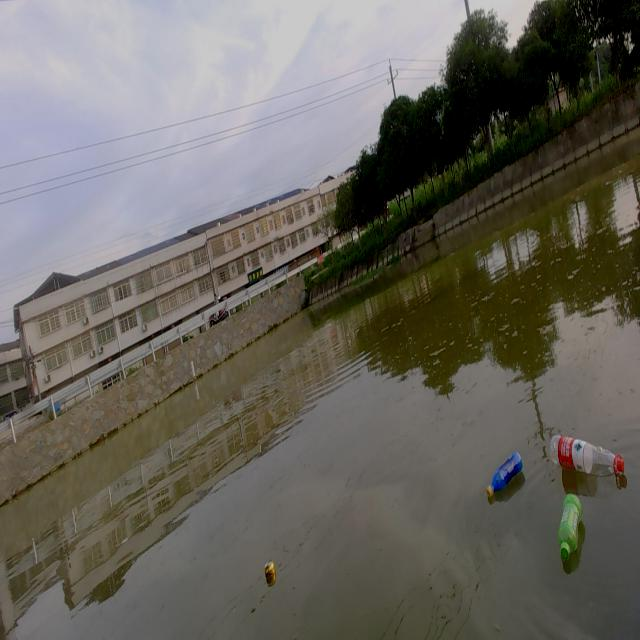bottle: (536, 425, 639, 485), (471, 438, 533, 505), (547, 491, 589, 571)
